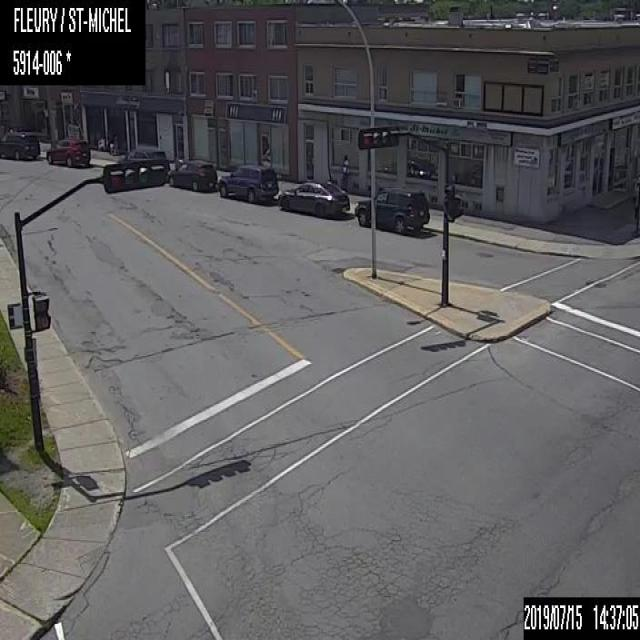pedestrian: (338, 153, 348, 191)
vehicle: (354, 184, 431, 235), (275, 174, 352, 222), (216, 160, 279, 206), (167, 158, 219, 195), (44, 134, 89, 167), (0, 129, 41, 160), (115, 144, 167, 160)
